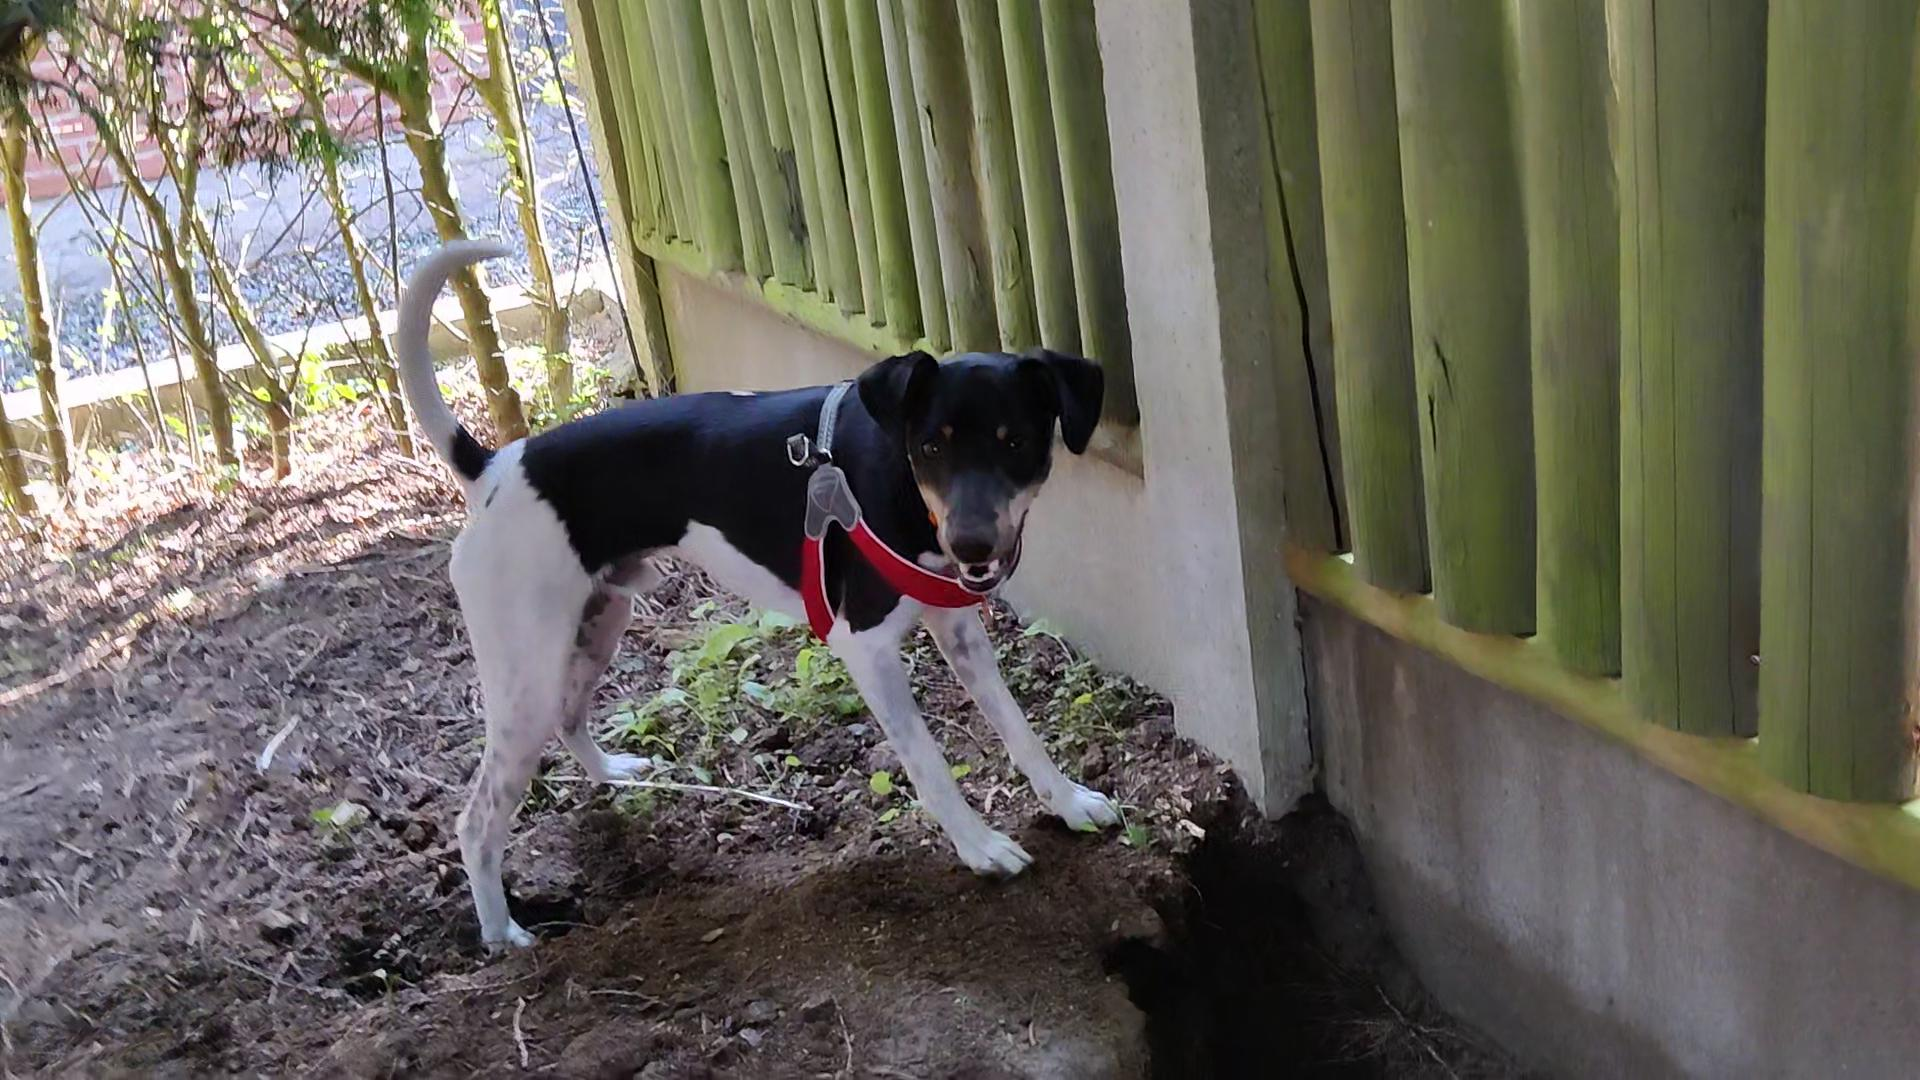Dog: (378, 229, 1137, 961)
